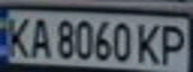0: (112, 19, 136, 64), (72, 17, 93, 61)
6: (93, 18, 115, 62)
8: (51, 16, 75, 60)
A: (24, 15, 54, 60)
K: (133, 19, 163, 65), (3, 14, 33, 58)
P: (154, 20, 190, 66)
